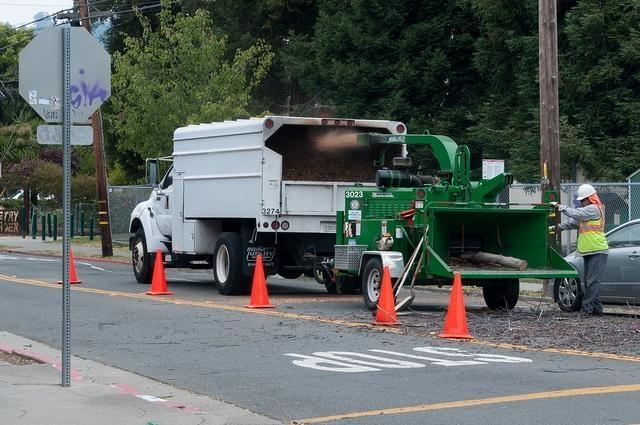car: (549, 218, 640, 310)
truck: (125, 113, 408, 294)
